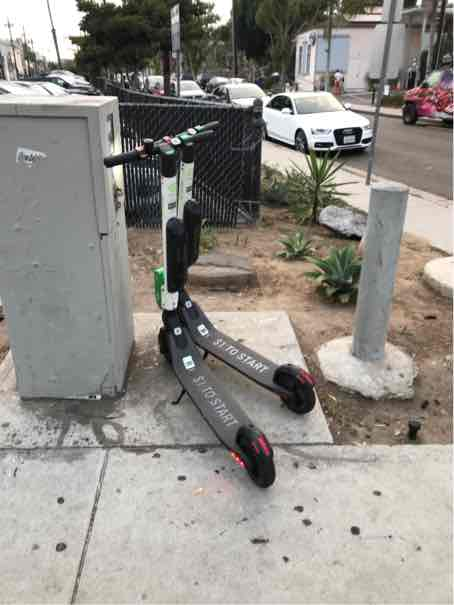scooter: (108, 107, 317, 485)
